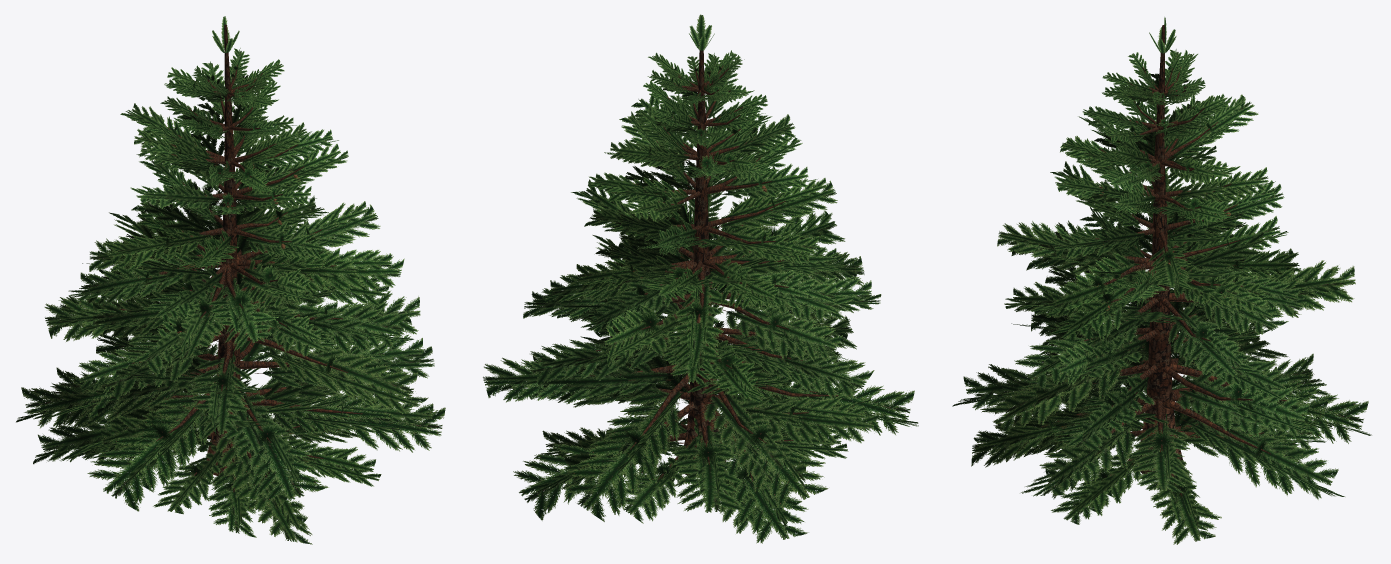
The model's file is pine-medium-mid.glb.
3 renders of one model, left to right at view 1: azimuth 30°, elevation 25°; view 2: azimuth 150°, elevation 25°; view 3: azimuth 270°, elevation 25°, orthographic.
Parts seen in each view (by area): view 1: pine_medium_mid; view 2: pine_medium_mid; view 3: pine_medium_mid.
Boxes of the visible parts, box(x1,y1,x2,y2) form: pine_medium_mid: box(16, 16, 445, 544); pine_medium_mid: box(483, 14, 918, 543); pine_medium_mid: box(952, 17, 1371, 544).
Bounding box in the file's own units: 9.37 × 11.57 × 9.6.
1 material, 1 textured.
